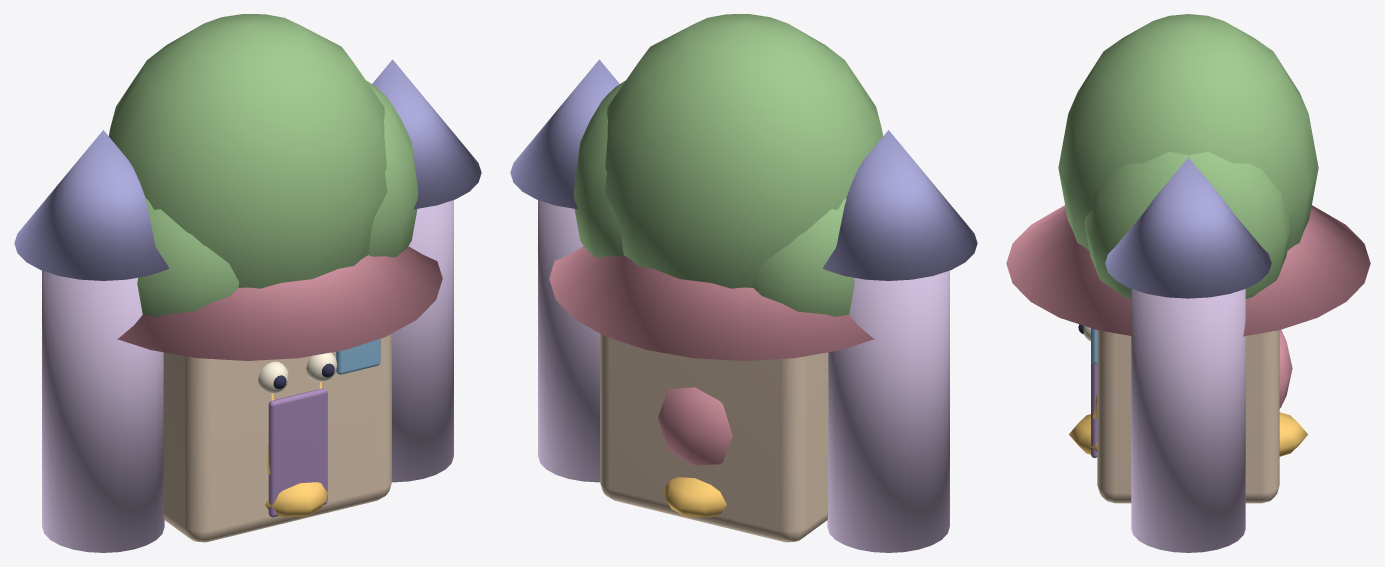
Rendered from toybox.glb.
3 views of the same model, side by side, from view 1: azimuth 30°, elevation 25°; view 2: azimuth 150°, elevation 25°; view 3: azimuth 270°, elevation 25° (orthographic). The views are drawn at different scales.
Parts seen in each view (by area): view 1: castle, tree, snail; view 2: castle, tree, snail; view 3: castle, tree, snail.
Part boxes in pixels (<box>): castle: <box>14,59,481,552</box>; tree: <box>109,14,418,316</box>; snail: <box>258,352,337,517</box>; castle: <box>510,59,977,552</box>; tree: <box>573,14,882,316</box>; snail: <box>658,387,732,517</box>; castle: <box>1006,157,1370,552</box>; tree: <box>1058,14,1318,298</box>; snail: <box>1069,324,1307,456</box>.
Bounding box in the file's own units: 1.84 × 1.99 × 1.4.
